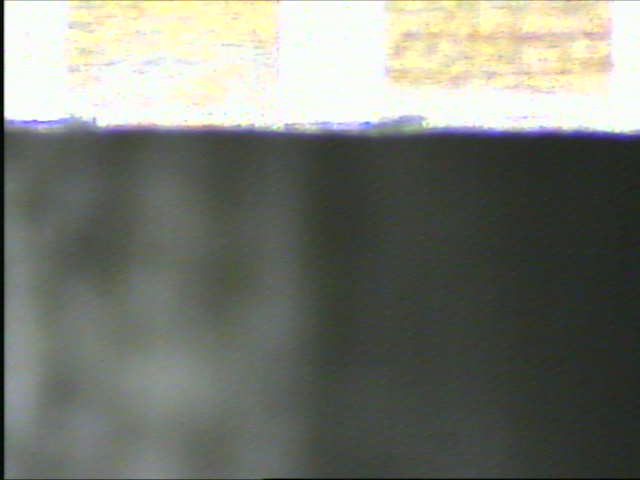line: (276, 1, 387, 113)
